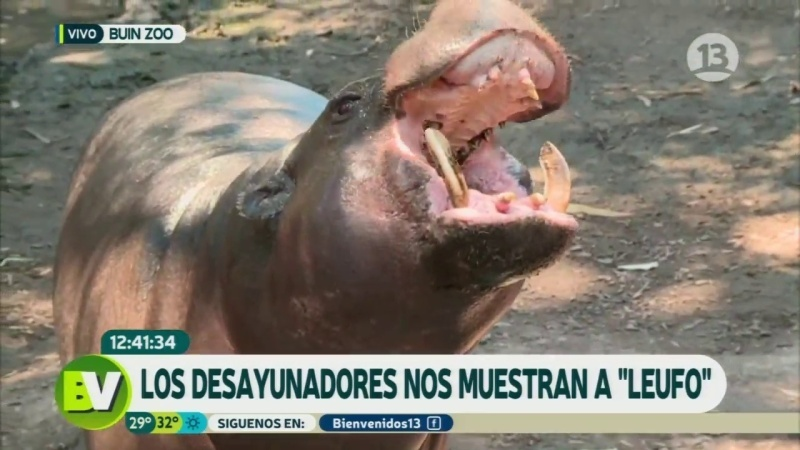hipopotamo: (36, 1, 594, 351)
